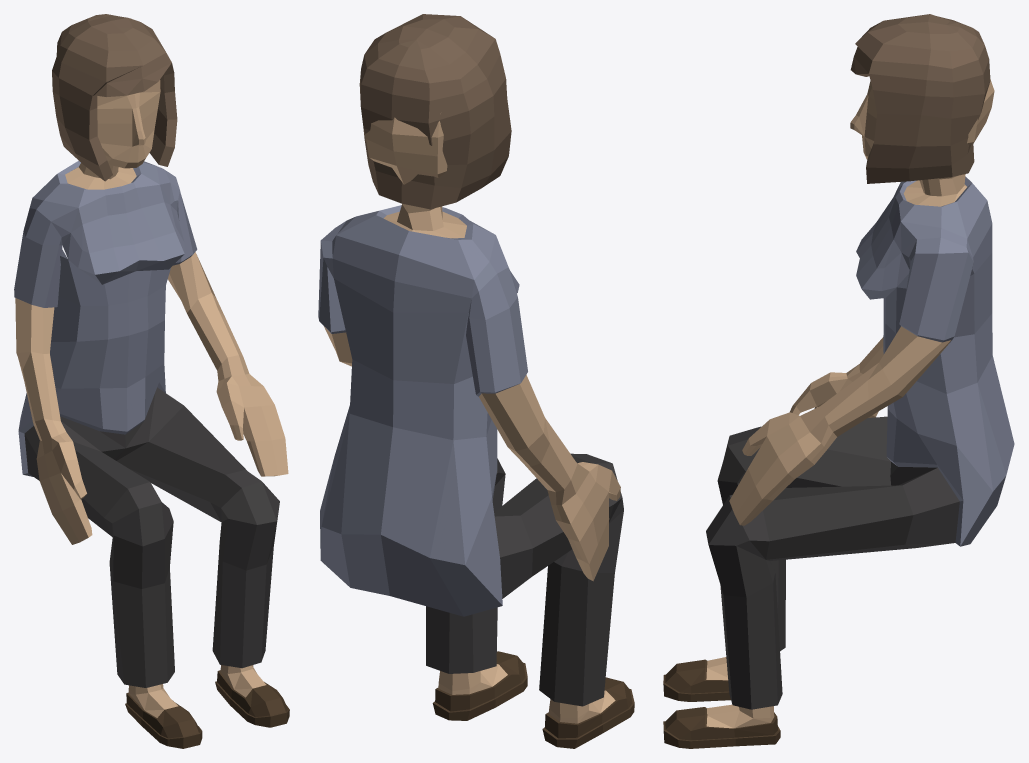
Rendered from female_sit_hair1.glb.
3 views of the same model, side by side, from view 1: azimuth 30°, elevation 25°; view 2: azimuth 150°, elevation 25°; view 3: azimuth 270°, elevation 25° (orthographic). The views are drawn at different scales.
Parts seen in each view (by area): view 1: hair; view 2: hair; view 3: hair.
Boxes of the visible parts, left/top/right/bottom form: hair: left=14, top=14, right=289, bottom=748; hair: left=318, top=14, right=634, bottom=748; hair: left=663, top=14, right=1014, bottom=748.
Size of the model in its own units: 0.457 by 1.37 by 0.6319.
